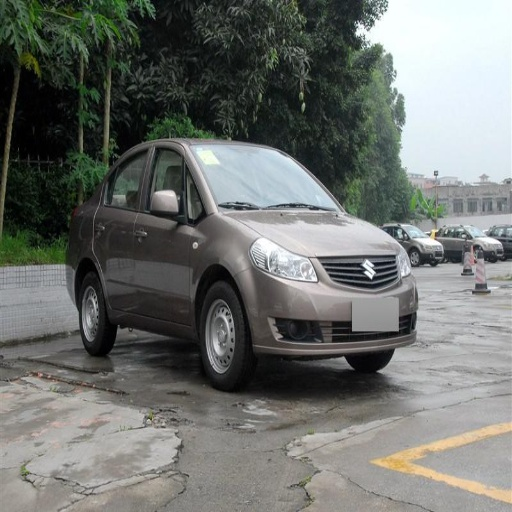front_bumper: (242, 253, 418, 357)
front_right_door: (136, 143, 203, 323)
front_right_light: (252, 239, 318, 282)
